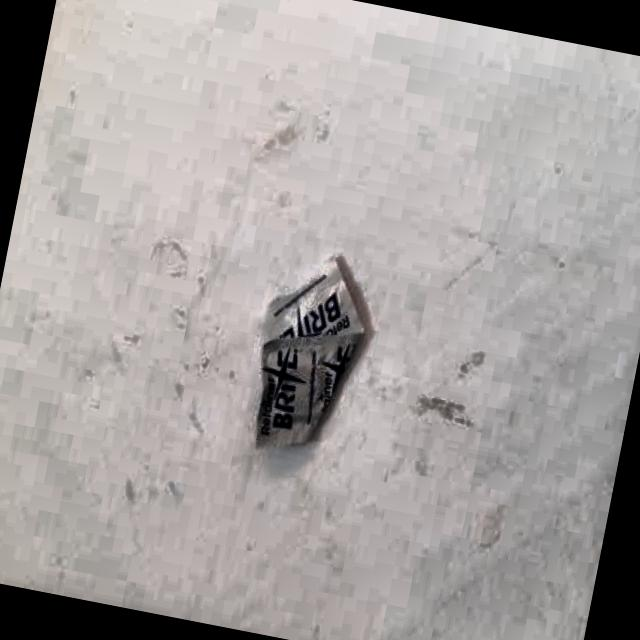trash: (240, 249, 376, 461)
